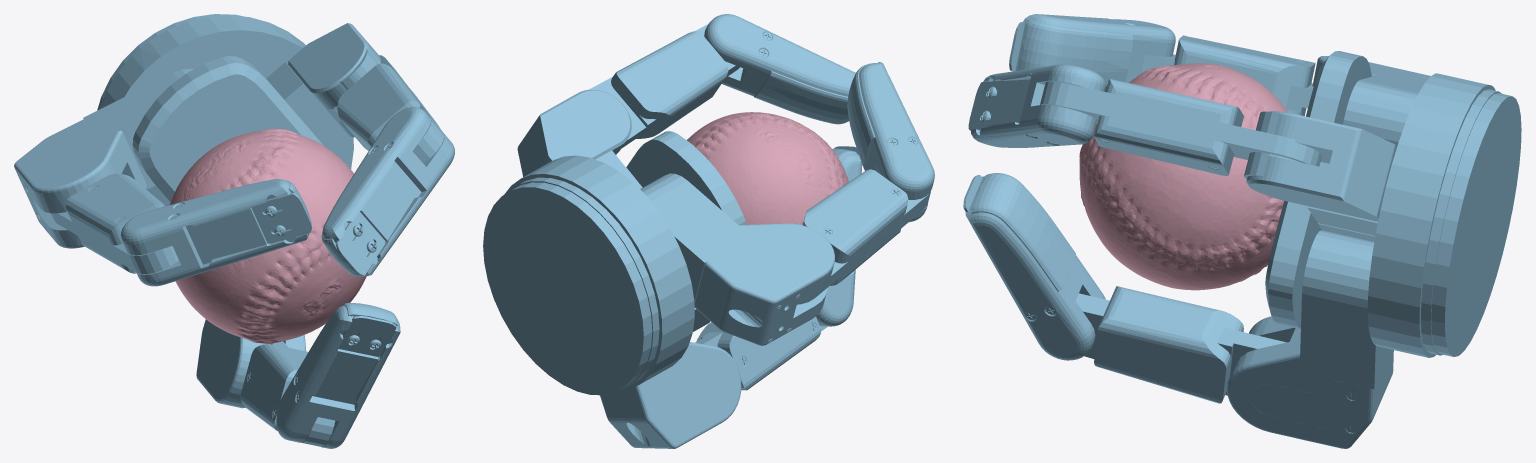
3 renders of one model, left to right at view 1: azimuth 30°, elevation 25°; view 2: azimuth 150°, elevation 25°; view 3: azimuth 270°, elevation 25°, orthographic. The views are drawn at different scales.
Parts seen in each view (by area): view 1: world, baseball.stl; view 2: world, baseball.stl; view 3: world, baseball.stl.
Part boxes in pixels (x1,y1,x2,y2): world: (14,14,454,448); baseball.stl: (170,128,366,343); world: (483,14,934,448); baseball.stl: (687,112,848,225); world: (963,14,1521,448); baseball.stl: (1079,63,1287,290).
Bounding box in the file's own units: 0.1422 × 0.14 × 0.1774.
